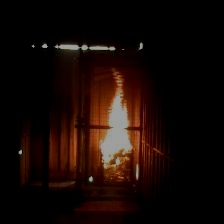fire: (93, 62, 135, 159)
